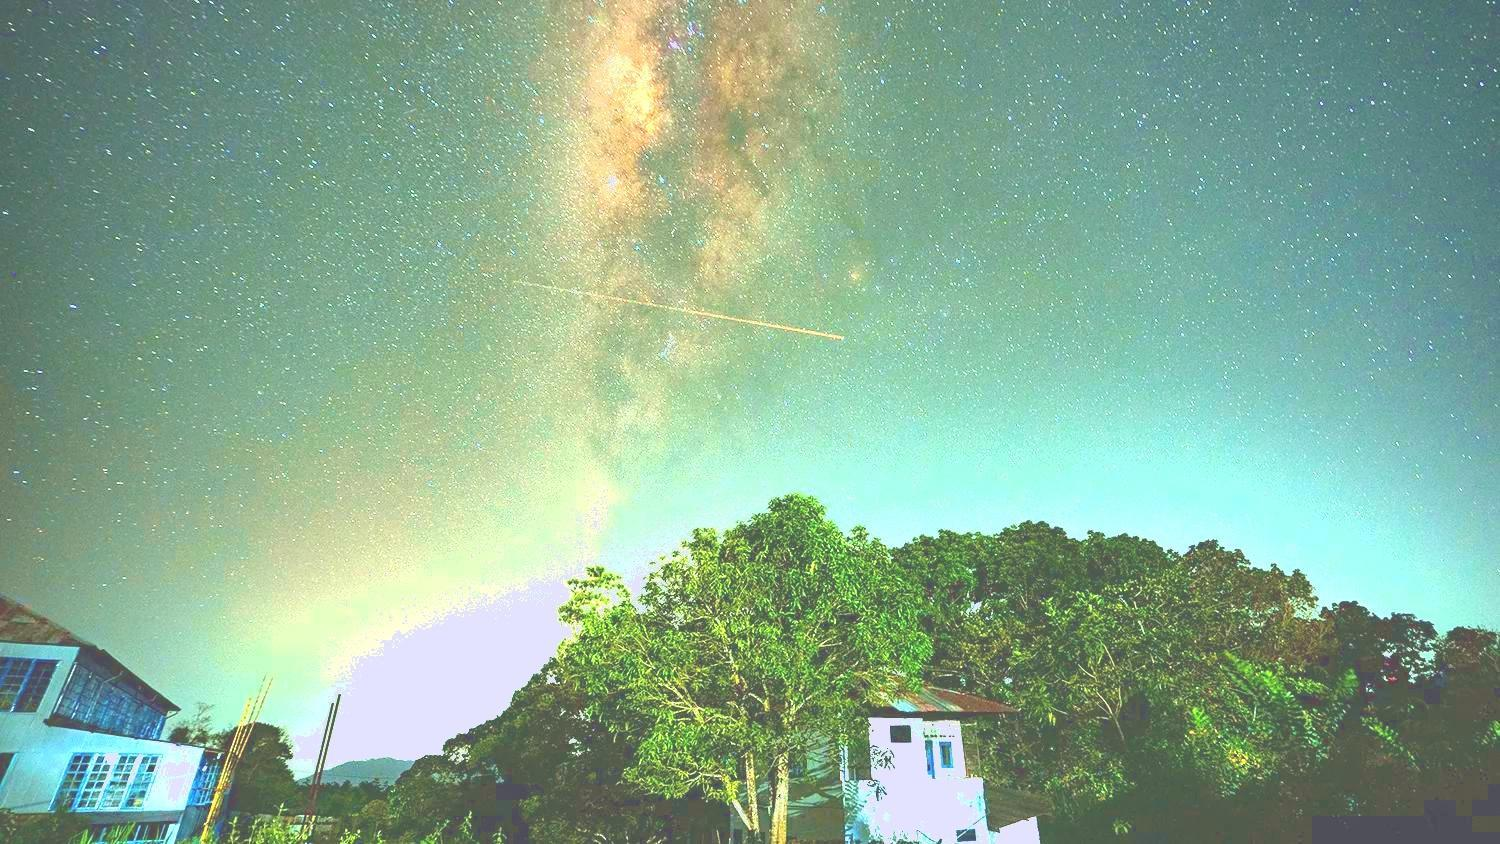meteorite: (641, 298, 864, 347)
